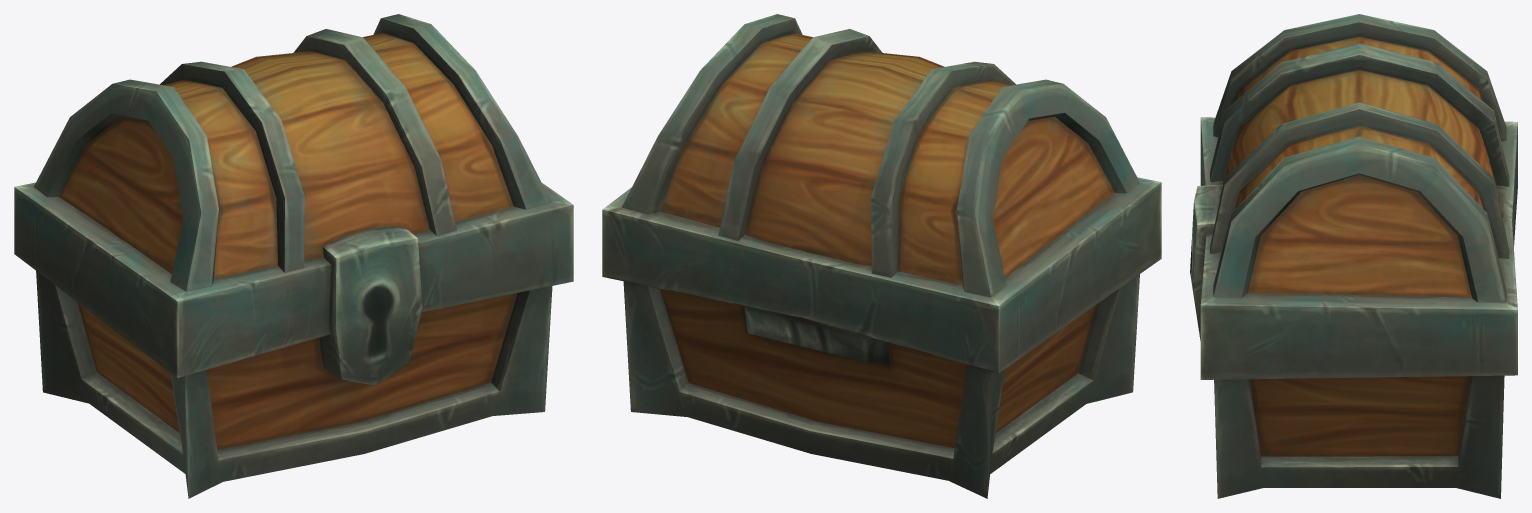
Rendered from treasureBox.glb.
3 renders of one model, left to right at view 1: azimuth 30°, elevation 25°; view 2: azimuth 150°, elevation 25°; view 3: azimuth 270°, elevation 25°, orthographic. The views are drawn at different scales.
Parts seen in each view (by area): view 1: Box001, Lower; view 2: Lower, Box001; view 3: Box001, Lower.
Boxes of the visible parts, bbox=[...] form: Box001: bbox=[34, 14, 551, 385]; Lower: bbox=[14, 182, 573, 498]; Lower: bbox=[602, 177, 1161, 498]; Box001: bbox=[622, 14, 1139, 297]; Box001: bbox=[1190, 14, 1509, 340]; Lower: bbox=[1200, 117, 1517, 498].
Size of the model in its own units: 0.4769 by 0.4 by 0.3515.
Materials: 1 (1 with a texture image).
